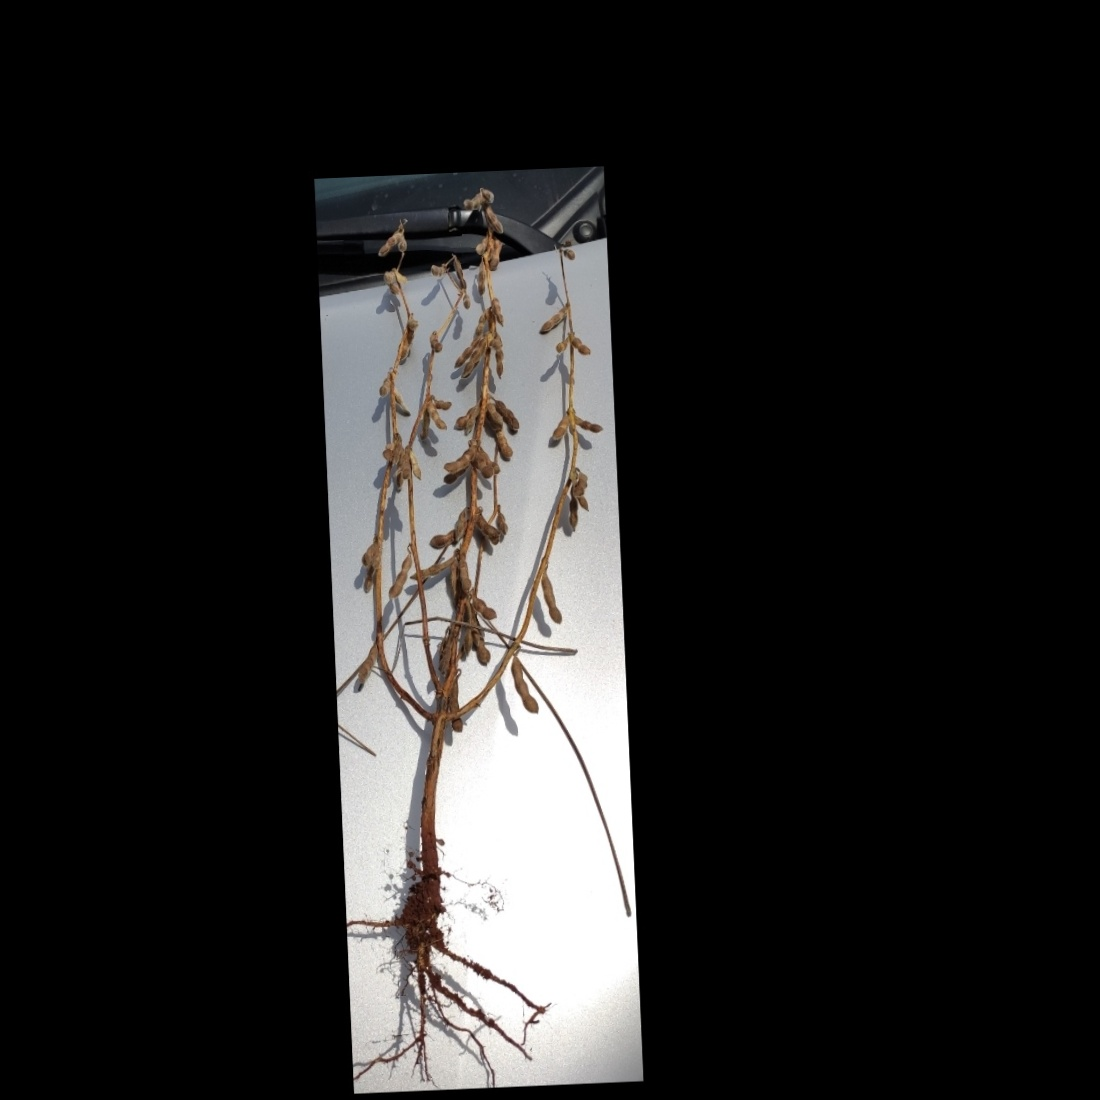pod: (508, 656, 542, 719), (539, 570, 567, 628), (383, 549, 414, 600), (491, 393, 522, 433), (532, 303, 568, 337), (354, 639, 379, 685), (458, 340, 487, 381), (466, 591, 498, 622), (572, 410, 608, 435), (425, 397, 450, 433), (470, 509, 501, 539), (482, 202, 505, 236), (375, 230, 402, 258), (570, 331, 596, 361), (451, 254, 470, 293), (355, 536, 378, 567), (470, 254, 487, 298)
soy: (332, 168, 636, 1044)
